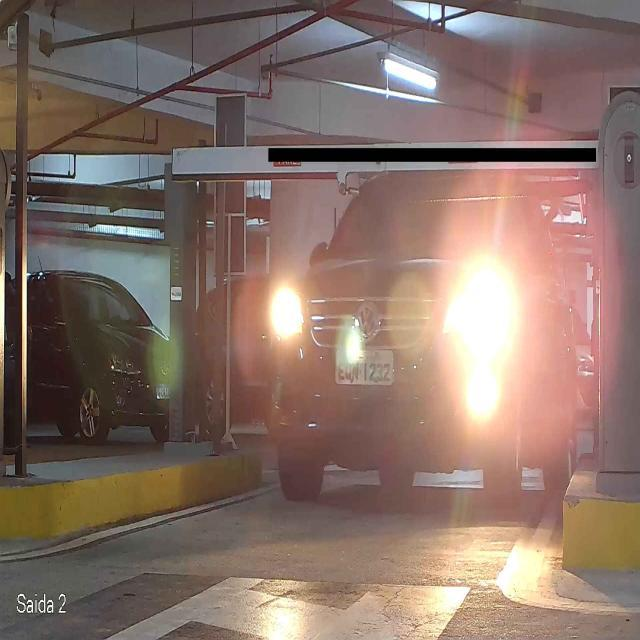old_plate: (333, 346, 396, 386)
